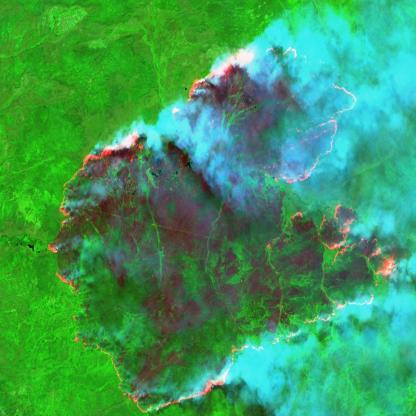fire: (41, 31, 400, 416)
